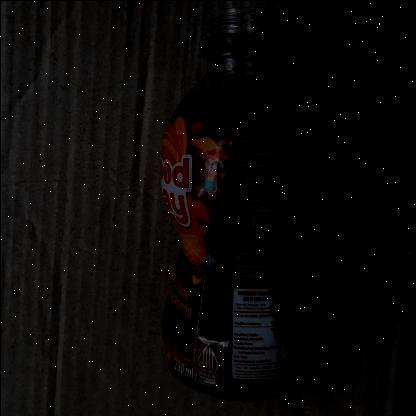Plastic Bottle: (158, 6, 324, 400)
